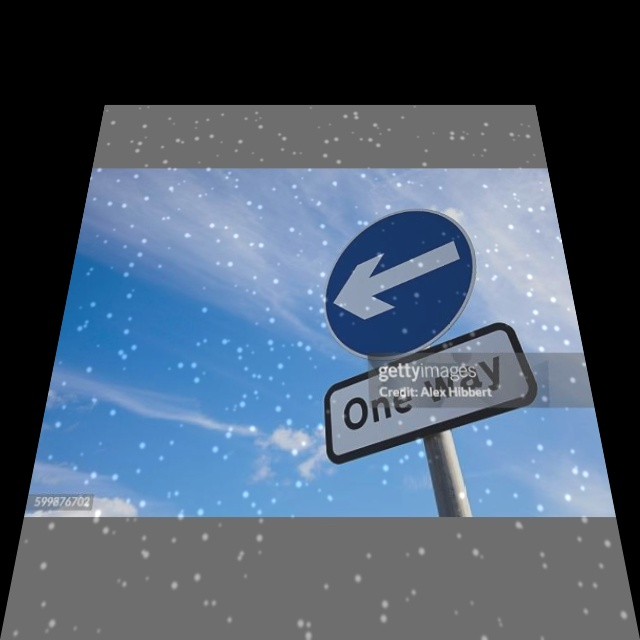Compulsory_Turn_Left: (316, 206, 485, 354)
